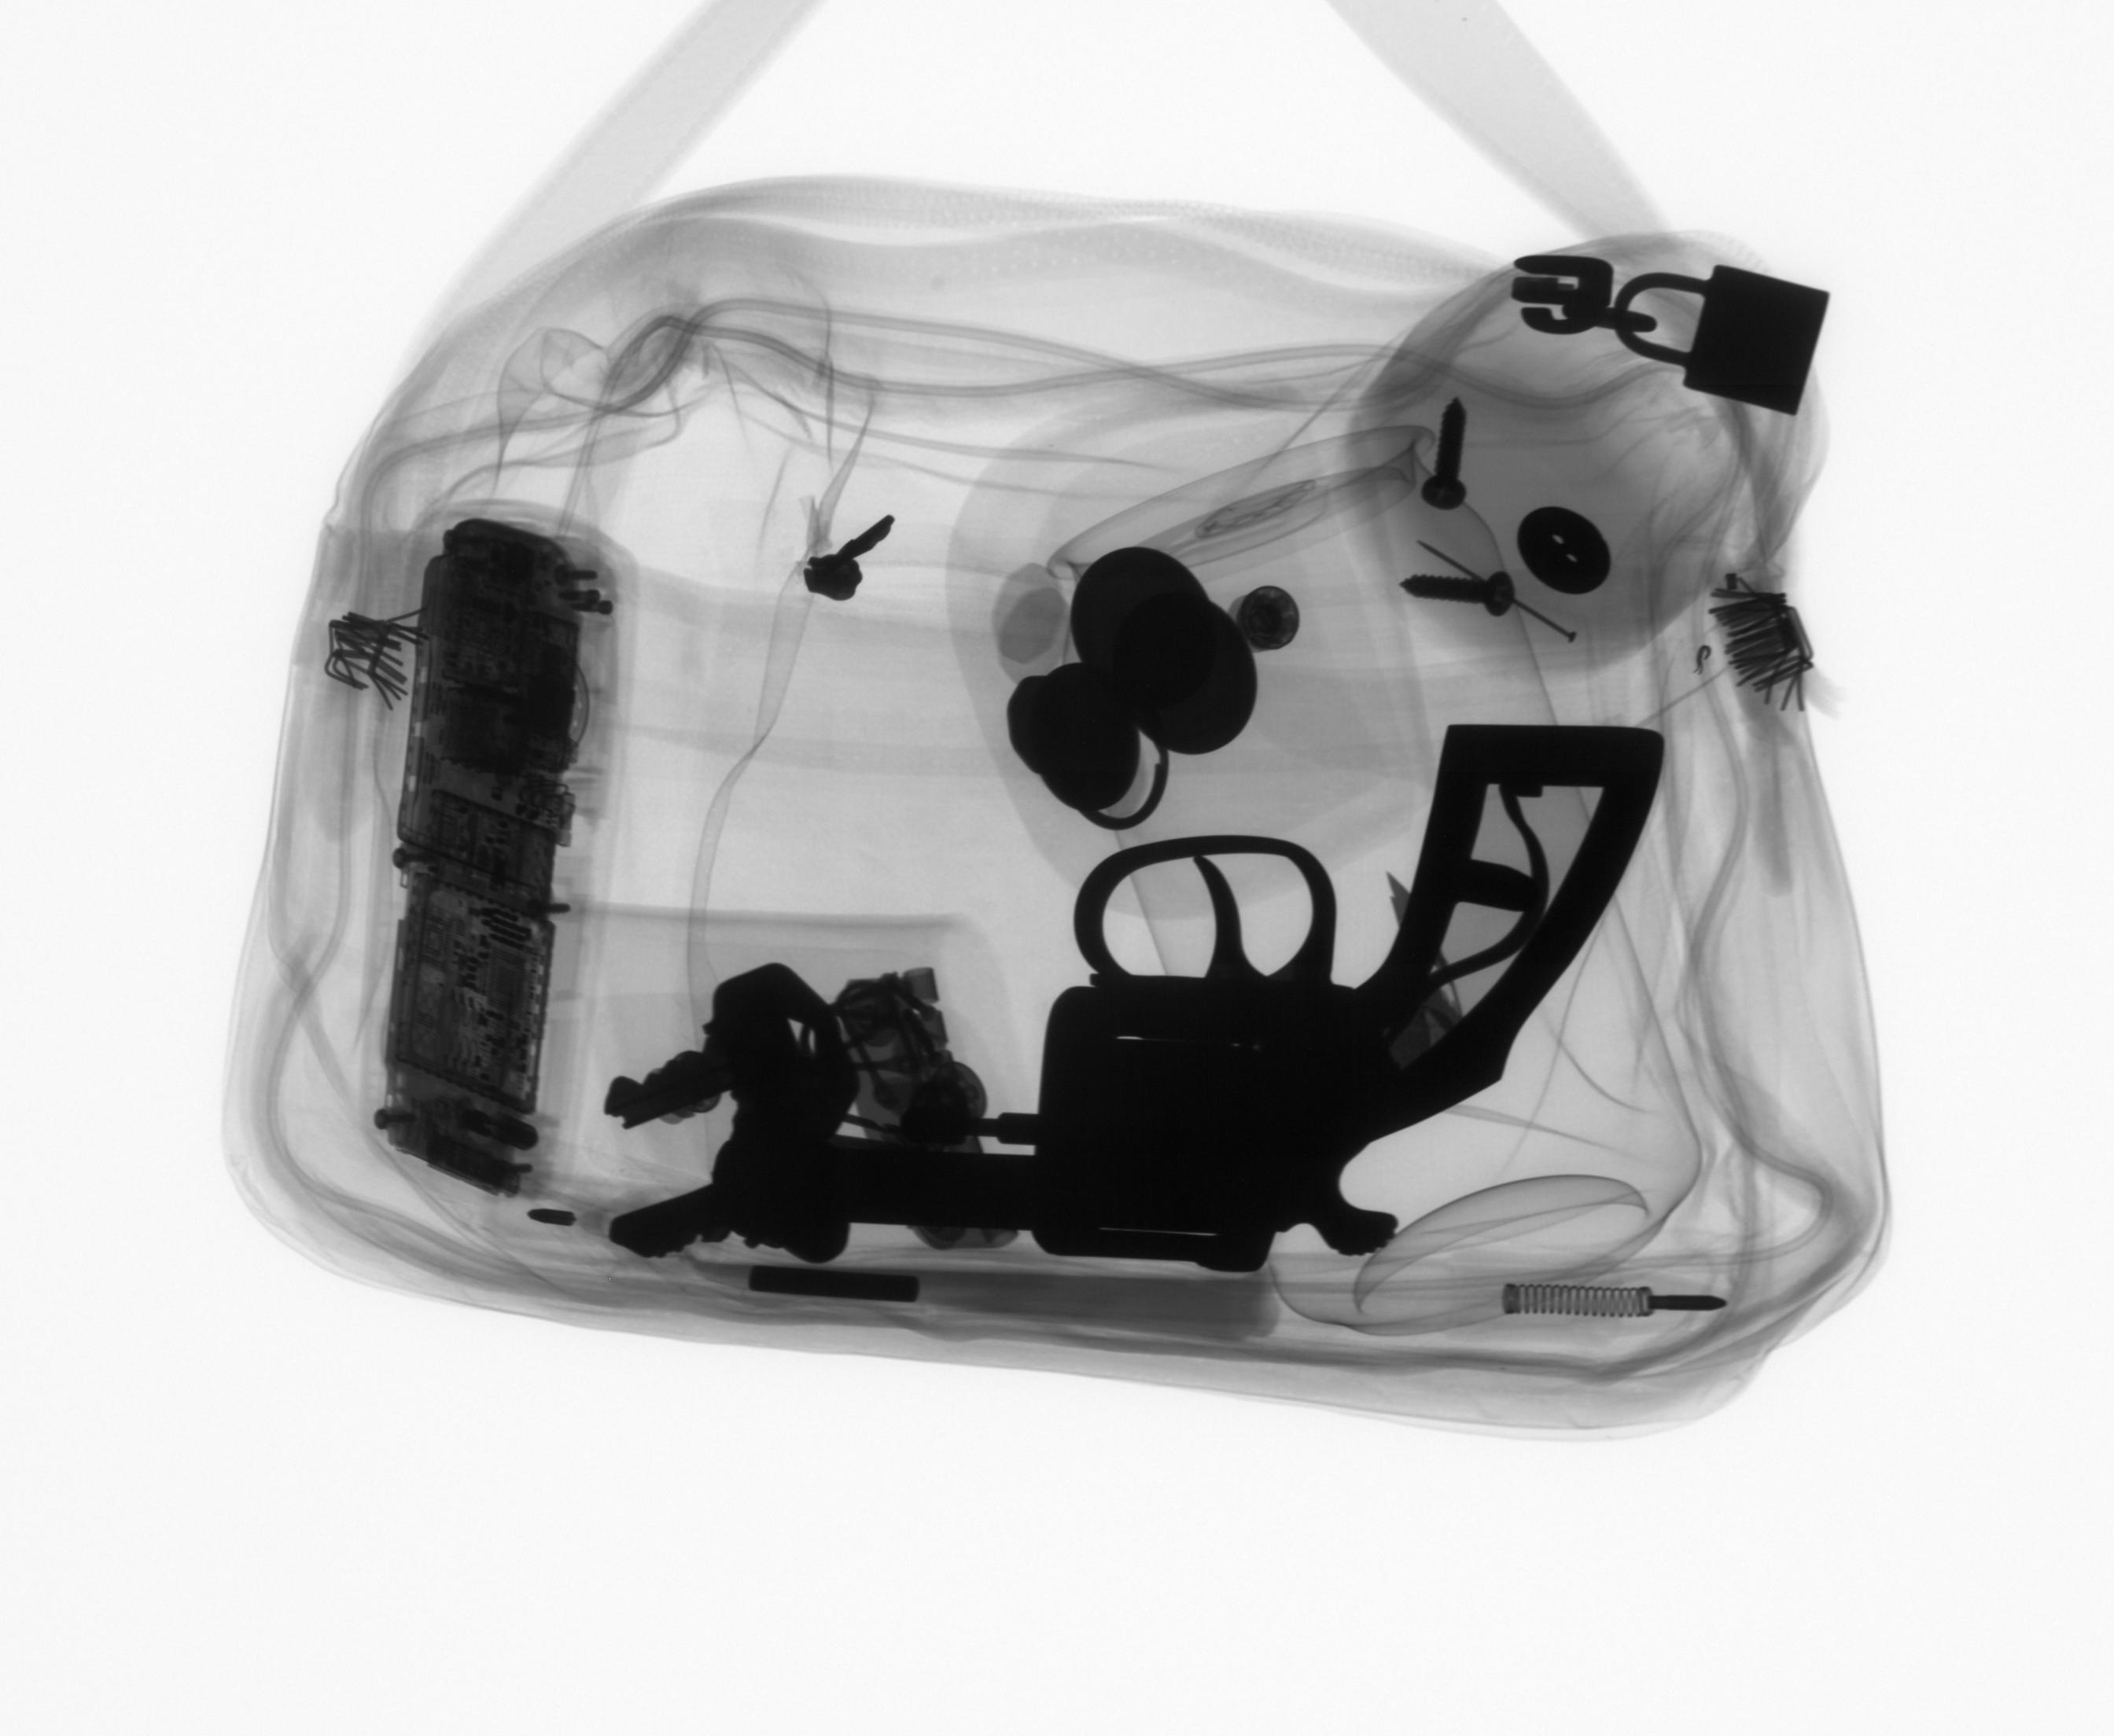Handgun: (705, 717, 1669, 1270)
